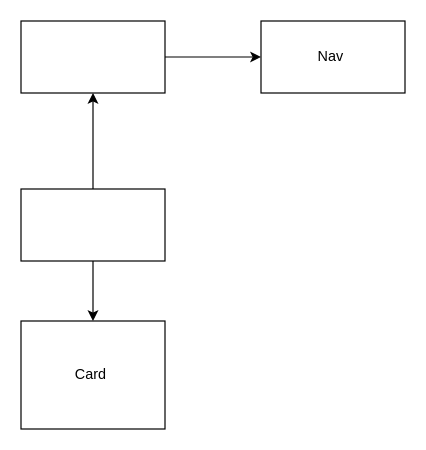
The diagram is 426 pixels wide and 450 high, and some of its shapes have lost their labels. The box of each missing label's shape, as (x1, y1, x2, y2) in pixels:
App: (20, 20, 165, 93)
Card Container: (20, 188, 165, 261)
